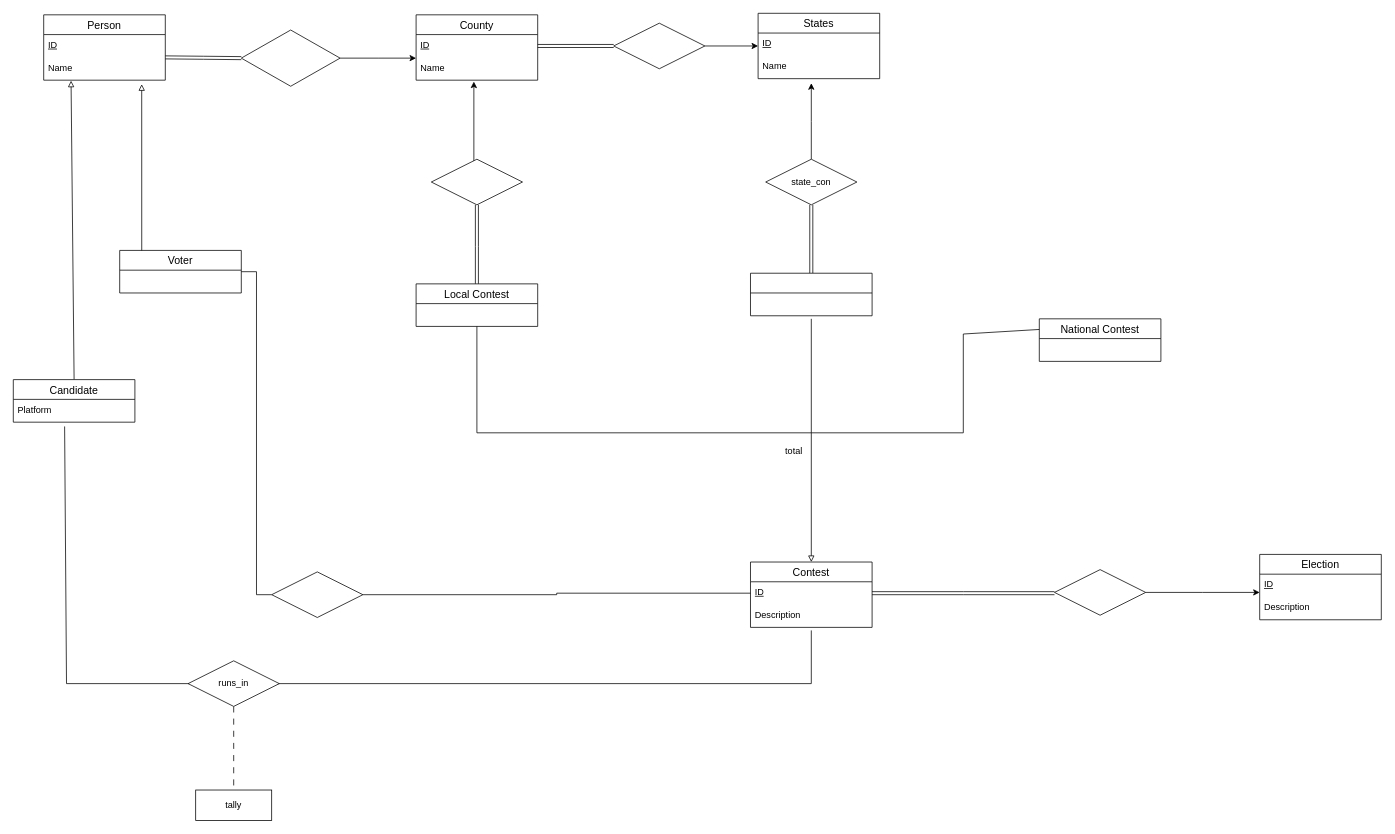
This 1395x834 diagram has some shape labels left out. Each missing label, with the centre of its shape:
held: (1100,592)
lives_in: (290,57)
lo_con: (476,181)
locality_state: (659,45)
State Contest: (811,294)
voted: (317,594)
